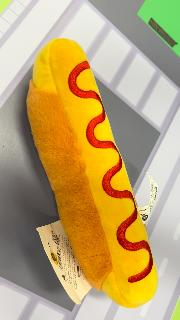hotdog: (25, 38, 158, 308)
